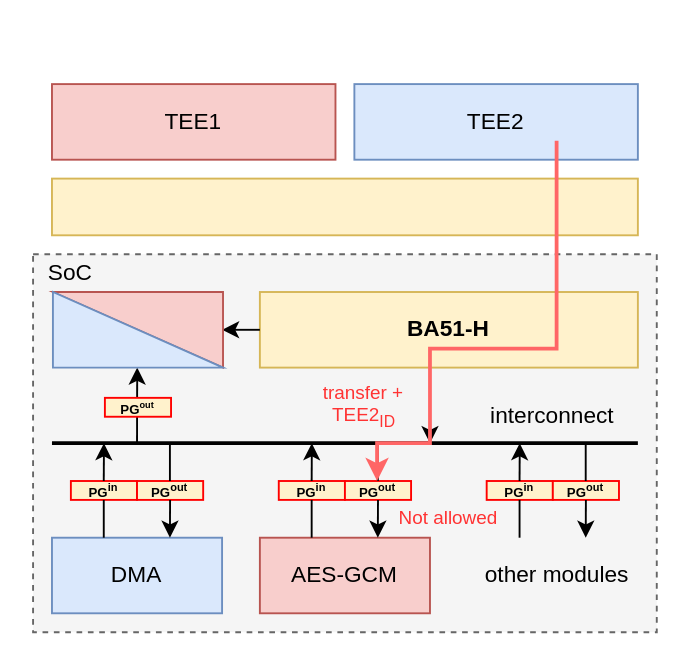
Some shapes in this 690 by 665 pixel diagram are drawn without their labels. Each missing label, with the box of its shape:
CROSSCON Hypervisor: (50, 177, 638, 235)
memory: (51, 290, 223, 368)
